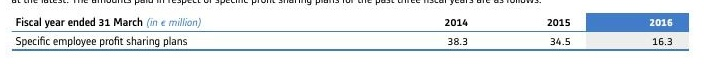table: (0, 0, 704, 66)
